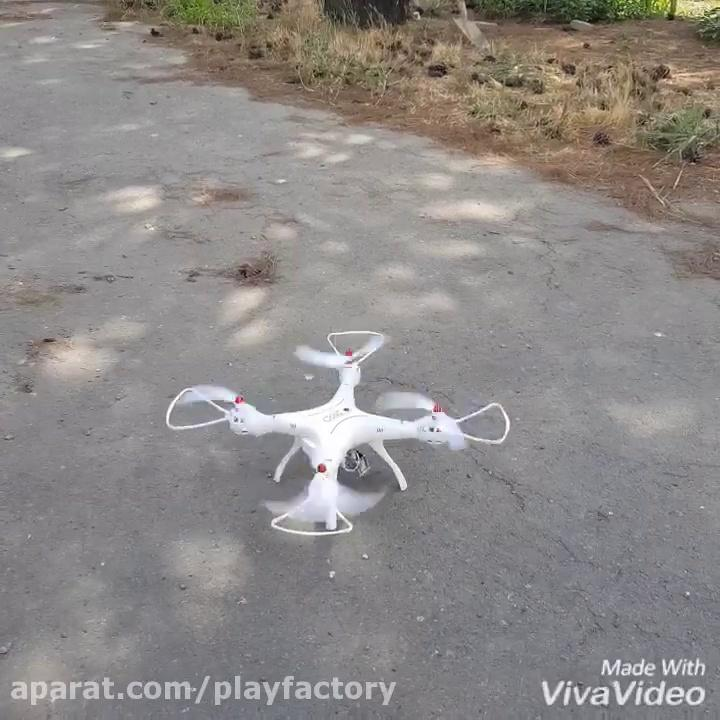drone: (162, 324, 513, 539)
